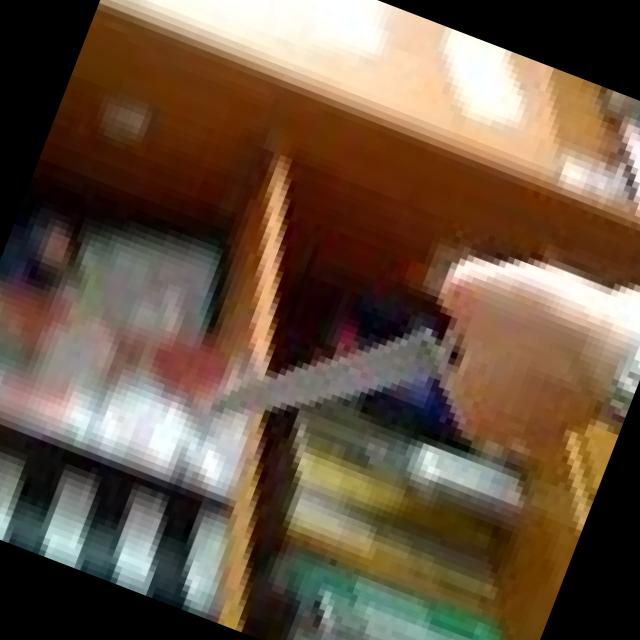knife: (173, 196, 516, 531)
